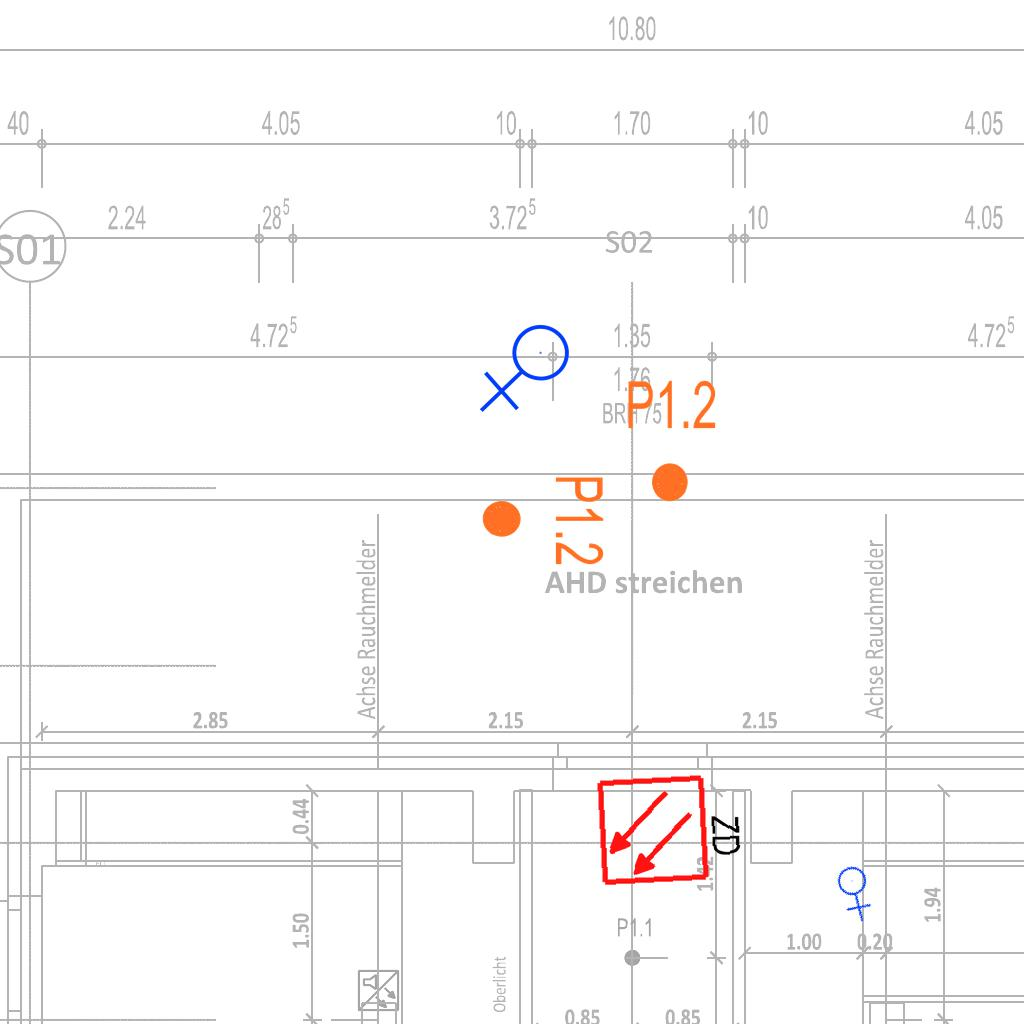Downlight_LED_Einbauleuchten_Flur: (479, 474, 607, 567), (625, 377, 718, 505)
Elektroanschluss_allgemein_230V_Geraeteanschlussdose_230V: (479, 323, 578, 417), (823, 857, 890, 924)
ZD_Melder_in_Zwischendecke_mit_Revisionsoeffnung_mind_40_x_40_cm: (594, 766, 750, 889)
